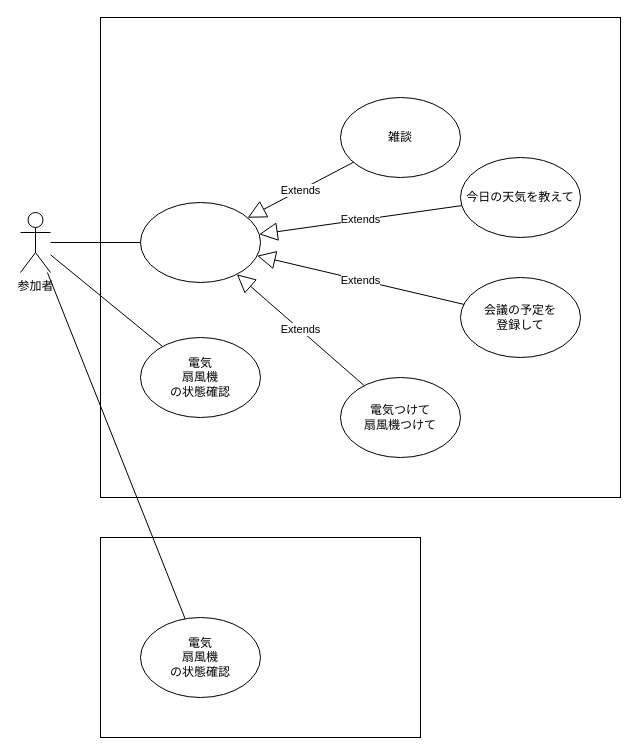
Some shapes in this 638 by 755 pixel diagram are drawn without their labels. Each missing label, with the box of its shape:
AIアシスタント Webアプリ: (100, 16, 620, 498)
キーボード入力: (140, 202, 260, 282)
電気・扇風機操作機 （ラズパイ）: (100, 536, 420, 738)
